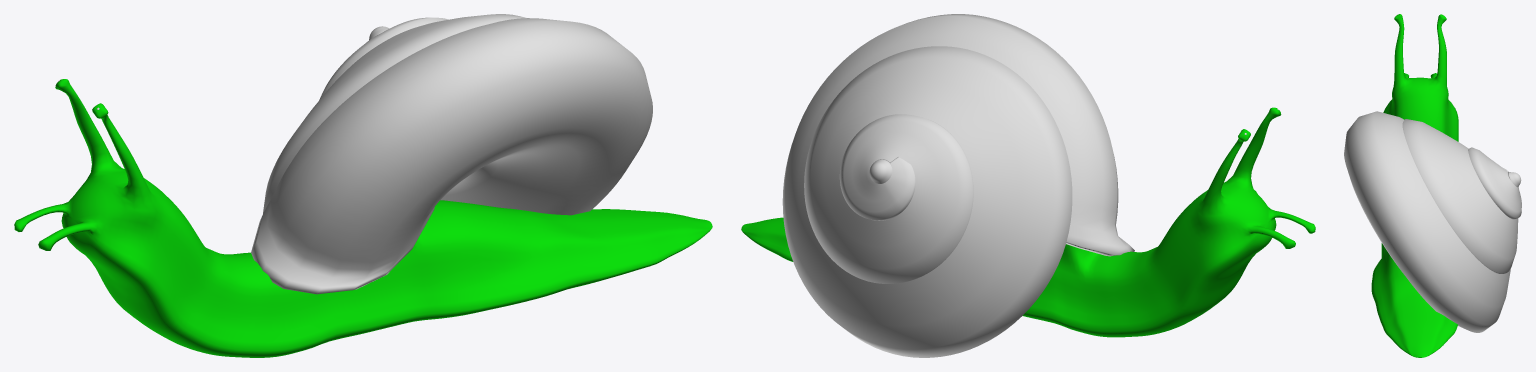
File: Snail.fbx
3 views of the same model, side by side, from view 1: azimuth 30°, elevation 25°; view 2: azimuth 150°, elevation 25°; view 3: azimuth 270°, elevation 25° (orthographic). The views are drawn at different scales.
Visible parts, largest first — view 1: Shell, Snail_Foot; view 2: Shell, Snail_Foot; view 3: Shell, Snail_Foot.
Boxes of the visible parts, x1=… form: Shell: x1=251, y1=14, x2=652, y2=294; Snail_Foot: x1=14, y1=79, x2=712, y2=357; Shell: x1=782, y1=14, x2=1134, y2=357; Snail_Foot: x1=741, y1=107, x2=1315, y2=337; Shell: x1=1344, y1=111, x2=1521, y2=332; Snail_Foot: x1=1371, y1=14, x2=1458, y2=357.
Bounding box in the file's own units: 12.77 × 6 × 4.95.
